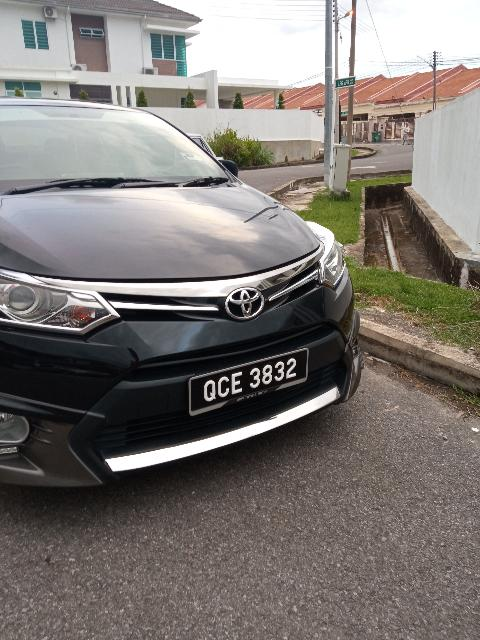License_Plate: (190, 348, 310, 416)
car: (2, 80, 403, 495)
